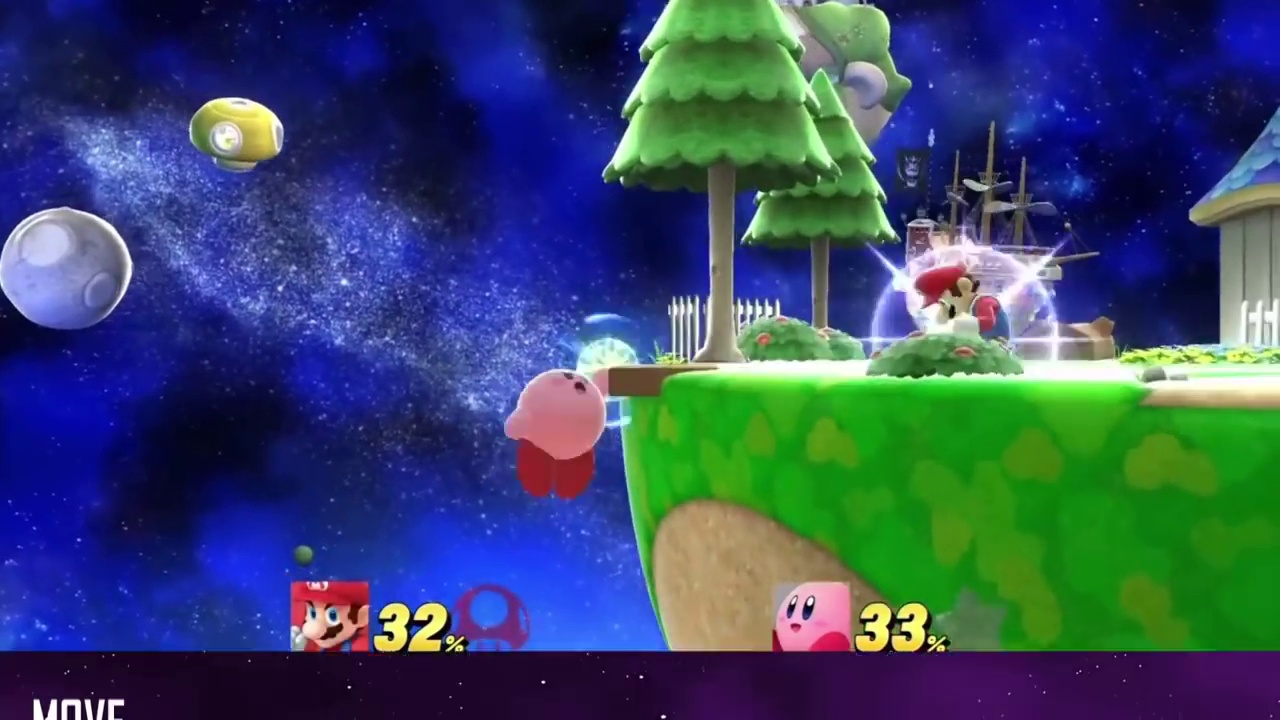Mario: (912, 262, 1014, 345)
